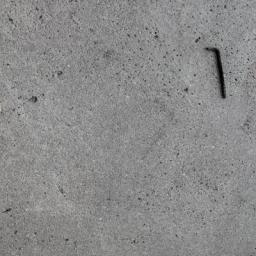FOD: (202, 41, 231, 103)
